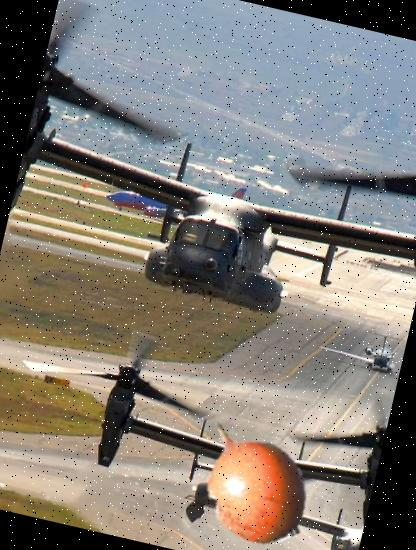Granadilla: (169, 398, 332, 550)
